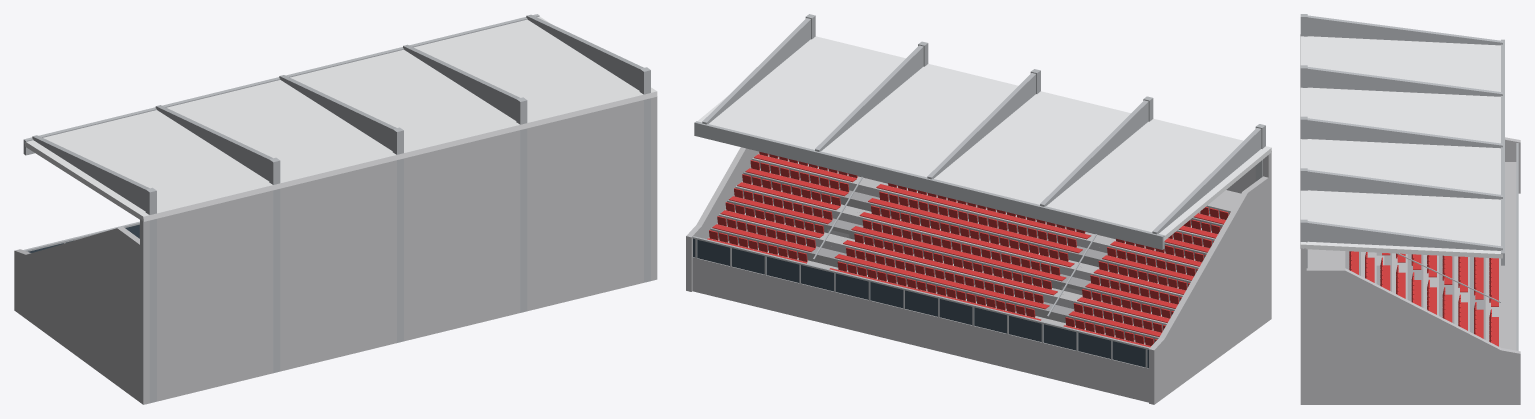
Rendered from grandstand.glb.
The picture shows the model from 3 angles, left to right: view 1: azimuth 30°, elevation 25°; view 2: azimuth 150°, elevation 25°; view 3: azimuth 270°, elevation 25°; orthographic projection. The views are drawn at different scales.
Visible parts, largest first — view 1: stand, roof; view 2: roof, stand, seats, stairs; view 3: roof, stand, seats, stairs.
Boxes of the visible parts, x1=… form: stand: x1=14, y1=97, x2=657, y2=404; roof: x1=23, y1=14, x2=657, y2=403; roof: x1=694, y1=14, x2=1271, y2=249; stand: x1=686, y1=147, x2=1271, y2=404; seats: x1=707, y1=151, x2=1229, y2=347; stairs: x1=813, y1=176, x2=1115, y2=316; roof: x1=1300, y1=14, x2=1504, y2=268; stand: x1=1300, y1=137, x2=1520, y2=404; seats: x1=1349, y1=251, x2=1498, y2=346; stairs: x1=1376, y1=253, x2=1500, y2=302.
Size of the model in its own units: 26 by 10.2 by 11.31.
